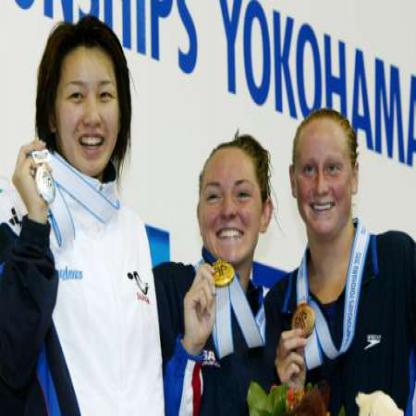face: (56, 32, 123, 178), (198, 144, 264, 266), (295, 111, 355, 237)
